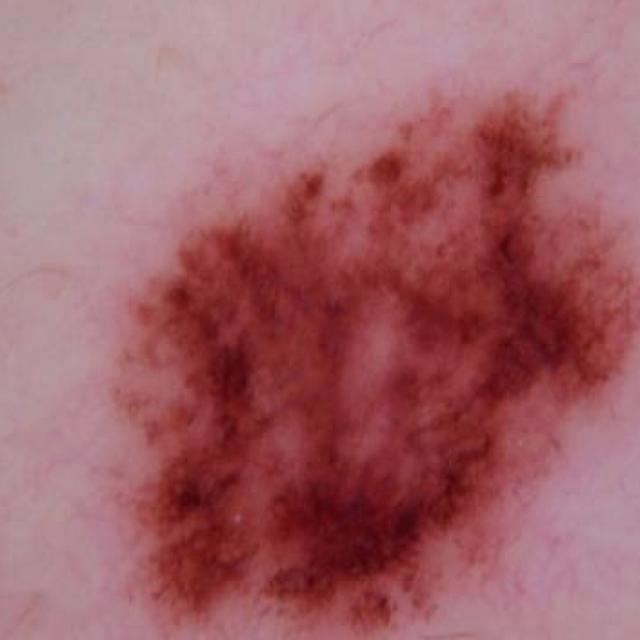NV: (158, 111, 572, 608)
